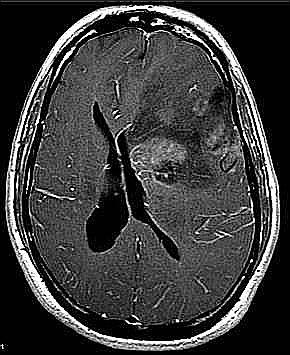Tumor: (125, 135, 192, 182)
